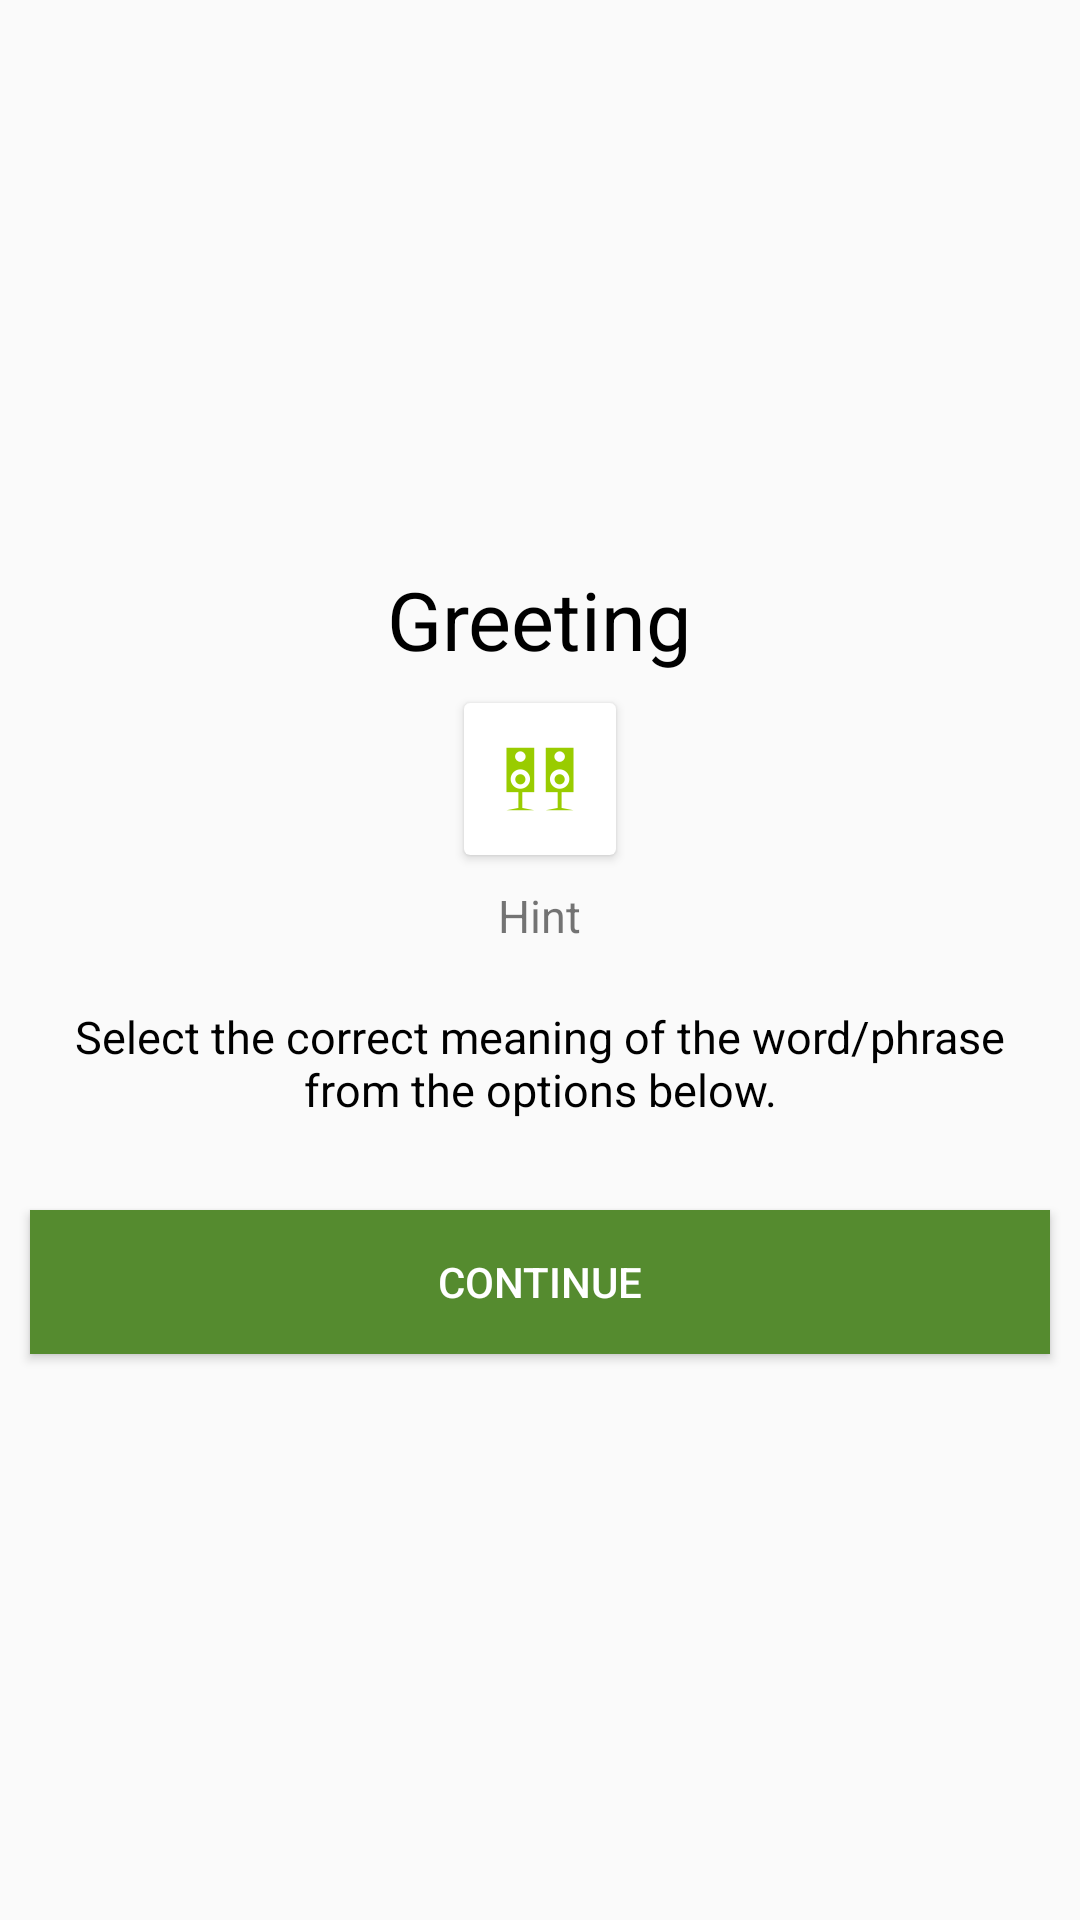

Where to tap for icons on this 1080w x 1920h app screen, as (x,y):
Audio: (540,779)
